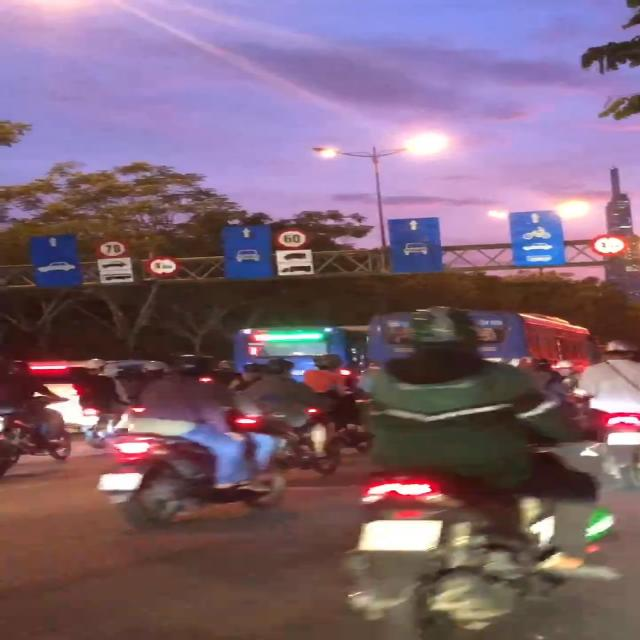Bien bao han che chieu cao: (145, 256, 178, 280)
Bien bao toc do toi da cho phep: (272, 226, 312, 252), (92, 238, 132, 258)
